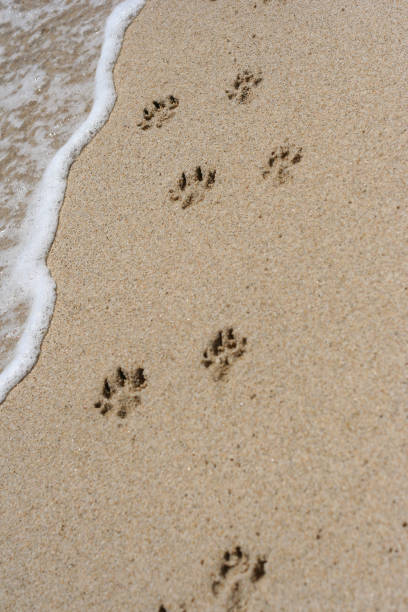animal_foot_print: (211, 546, 266, 611), (94, 367, 146, 418), (201, 327, 246, 379), (169, 165, 215, 208), (262, 144, 301, 184), (137, 95, 178, 129), (226, 69, 262, 102)
